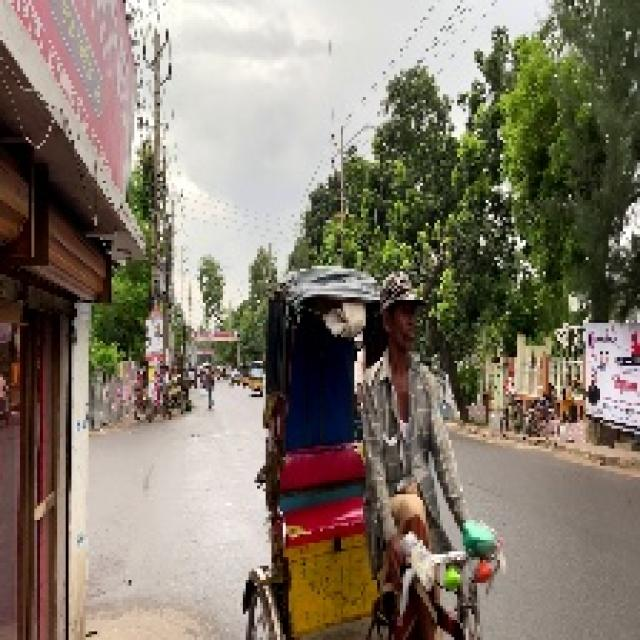rickshaw: (242, 258, 506, 613)
